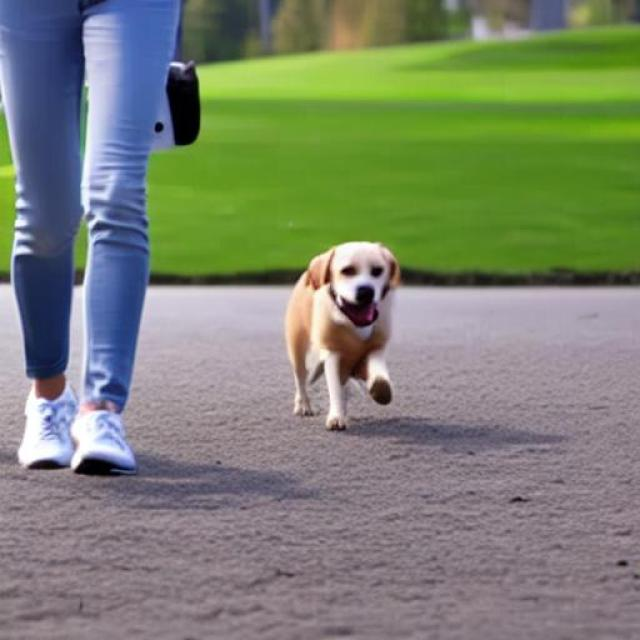Unleashed_Dog: (0, 0, 403, 434)
